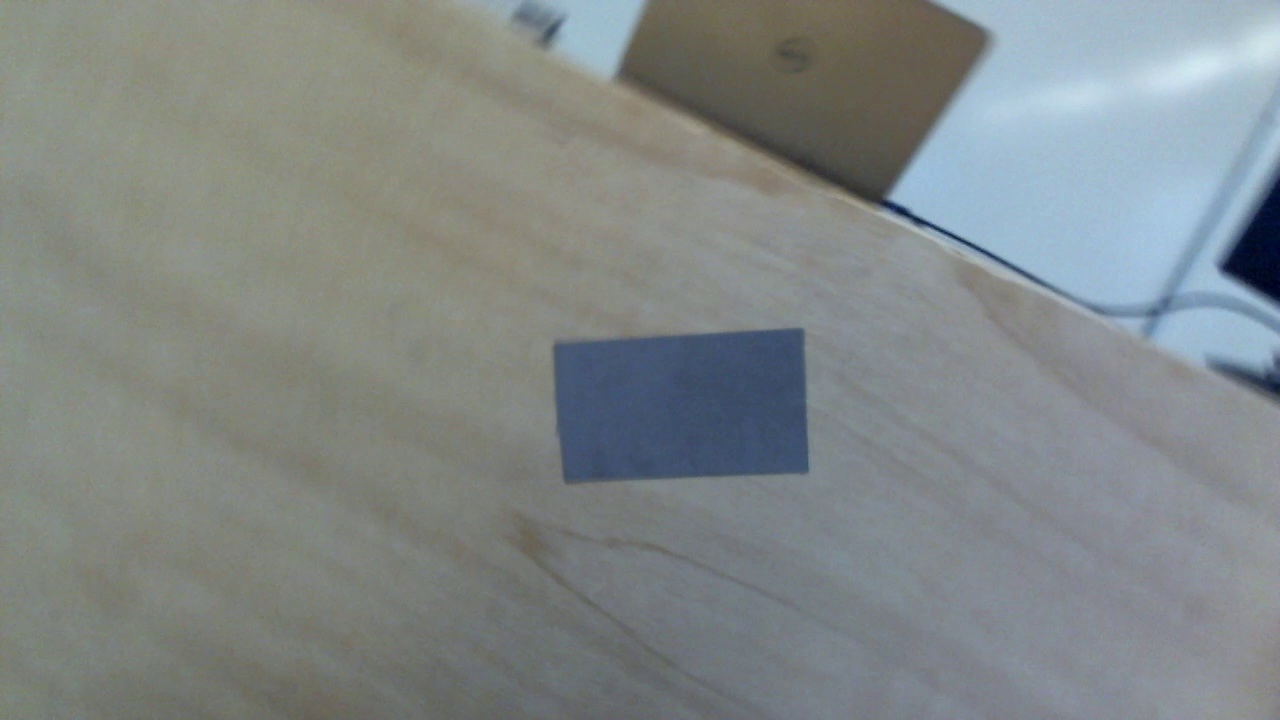Tape: (553, 327, 811, 483)
